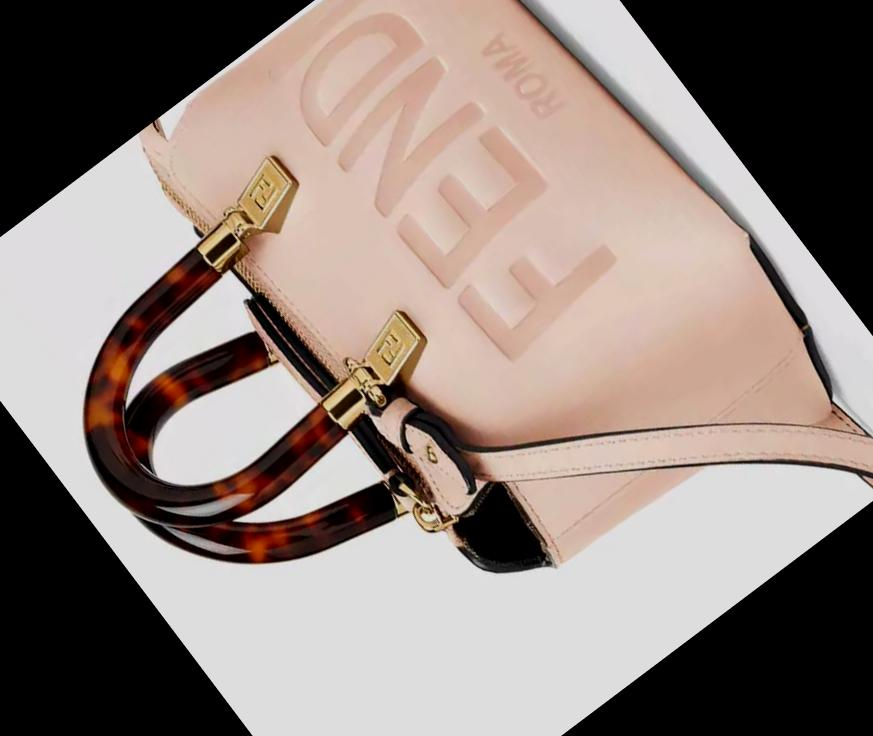FENDI: (255, 0, 631, 378)
